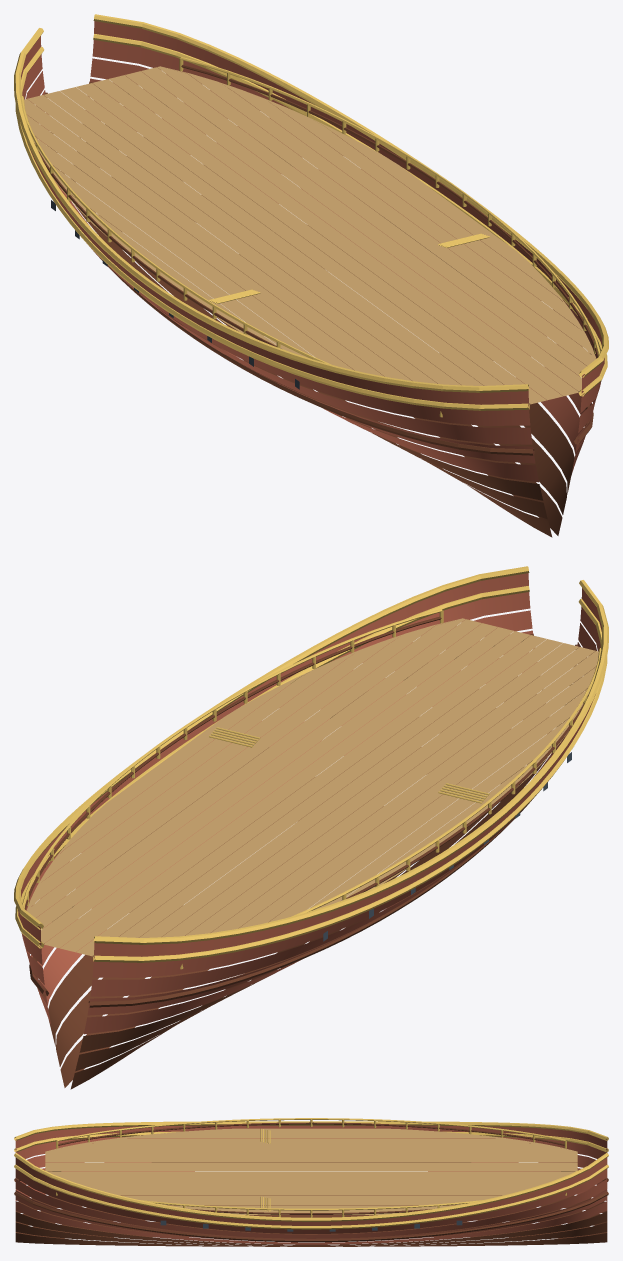
File: moby-dick-hull.glb
The picture shows the model from 3 angles, top to bottom: view 1: azimuth 30°, elevation 25°; view 2: azimuth 150°, elevation 25°; view 3: azimuth 270°, elevation 25°; orthographic projection. The views are drawn at different scales.
Parts seen in each view (by area): view 1: hull-role-deck.018, hull-role-hull.018, hull-role-trim.018, hull-role-hullDark.018; view 2: hull-role-deck.018, hull-role-hull.018, hull-role-trim.018, hull-role-hullDark.018; view 3: hull-role-deck.018, hull-role-hull.018, hull-role-hullDark.018, hull-role-trim.018, hull-role-metal.018.
Part boxes in pixels (left/top/right/bottom): hull-role-deck.018: left=24, top=66, right=596, bottom=404; hull-role-hull.018: left=21, top=21, right=604, bottom=482; hull-role-trim.018: left=14, top=14, right=608, bottom=417; hull-role-hullDark.018: left=33, top=64, right=598, bottom=537; hull-role-deck.018: left=26, top=618, right=598, bottom=956; hull-role-hull.018: left=18, top=573, right=601, bottom=1034; hull-role-trim.018: left=14, top=566, right=608, bottom=969; hull-role-hullDark.018: left=24, top=616, right=589, bottom=1089; hull-role-deck.018: left=45, top=1128, right=577, bottom=1214; hull-role-hull.018: left=15, top=1125, right=607, bottom=1244; hull-role-hullDark.018: left=14, top=1122, right=608, bottom=1246; hull-role-trim.018: left=14, top=1118, right=608, bottom=1229; hull-role-metal.018: left=160, top=1220, right=462, bottom=1231.
Bounding box in the file's own units: 47.9 × 21.93 × 123.
